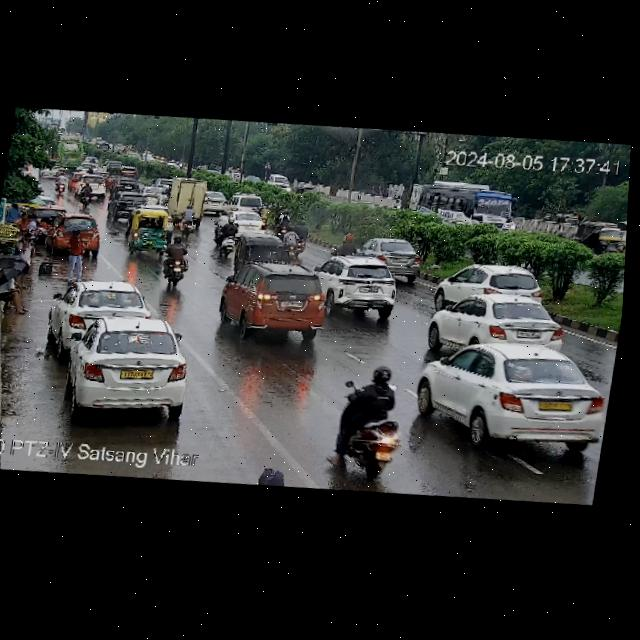bus: (408, 174, 525, 238), (53, 138, 85, 173)
car: (412, 330, 617, 456), (60, 308, 198, 420), (212, 252, 337, 348), (428, 281, 569, 354), (47, 273, 152, 350), (430, 257, 549, 319), (319, 254, 411, 324), (345, 232, 429, 280), (45, 208, 105, 258), (122, 206, 174, 258), (232, 230, 283, 271), (571, 217, 627, 251), (108, 185, 154, 226), (224, 190, 265, 217), (76, 170, 107, 200), (235, 208, 266, 237), (111, 188, 151, 207), (203, 188, 227, 215), (267, 173, 293, 192), (141, 185, 168, 203), (76, 158, 97, 176), (118, 166, 143, 181), (96, 169, 113, 186), (103, 158, 121, 173)
motorcycle: (321, 363, 409, 474), (157, 231, 192, 288), (209, 207, 239, 256), (179, 203, 197, 239), (293, 219, 311, 255), (333, 230, 357, 257), (282, 222, 299, 259), (273, 207, 291, 237), (77, 179, 95, 206), (54, 173, 69, 196)
person: (0, 271, 36, 317), (62, 227, 89, 282), (13, 232, 37, 289), (17, 210, 41, 236), (0, 259, 7, 287)
truck: (164, 175, 208, 220)
